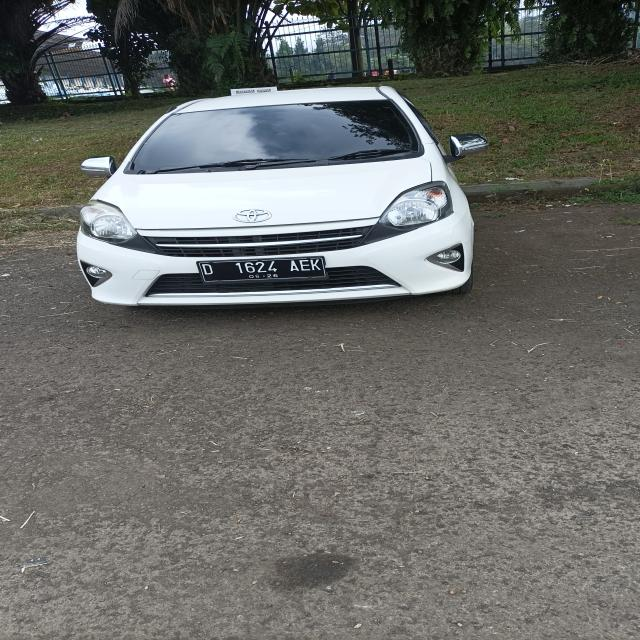license-plat: (190, 255, 334, 285)
